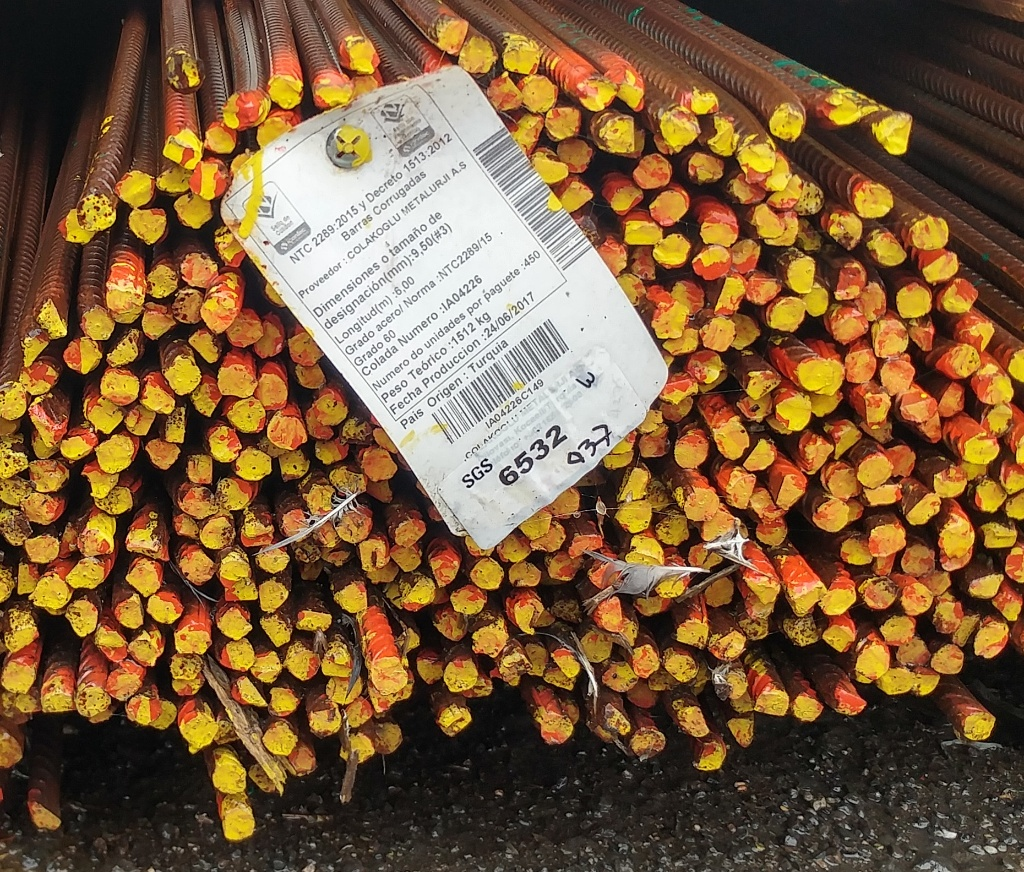dipstick: (224, 91, 272, 131), (26, 400, 73, 440), (824, 210, 868, 252), (825, 261, 867, 303), (738, 569, 784, 607), (716, 468, 758, 509), (64, 336, 108, 375), (735, 139, 779, 177), (32, 300, 77, 337), (125, 526, 171, 562), (113, 171, 157, 208), (337, 36, 383, 71), (3, 609, 43, 649), (981, 397, 1016, 442), (181, 711, 220, 751), (95, 433, 133, 474), (104, 283, 145, 321), (589, 708, 630, 746), (768, 296, 810, 333), (503, 113, 542, 152), (202, 295, 240, 335), (267, 413, 307, 451), (173, 620, 213, 658), (277, 507, 317, 545), (711, 421, 751, 459), (164, 358, 205, 395), (367, 655, 408, 692), (892, 282, 931, 320), (26, 797, 67, 833), (28, 461, 71, 495), (22, 491, 66, 524), (38, 681, 76, 719), (79, 196, 116, 235), (661, 108, 698, 147), (870, 234, 909, 271), (178, 550, 218, 586), (771, 466, 807, 506), (312, 73, 353, 108), (588, 598, 629, 633), (724, 242, 765, 277), (870, 320, 911, 355), (128, 209, 170, 243), (253, 114, 297, 146), (85, 398, 123, 435), (101, 370, 139, 407), (288, 330, 327, 366), (829, 309, 869, 344), (19, 361, 60, 395), (162, 130, 204, 163), (629, 726, 666, 763), (627, 535, 664, 572), (18, 332, 56, 368), (226, 311, 264, 347), (877, 115, 913, 153), (852, 182, 891, 217), (1, 662, 38, 698), (705, 117, 741, 154), (924, 251, 961, 287), (254, 373, 289, 411), (208, 425, 243, 463), (976, 367, 1014, 402), (908, 219, 946, 254), (58, 207, 97, 241), (434, 20, 473, 54), (368, 720, 408, 753), (396, 577, 436, 610), (593, 119, 633, 152), (686, 150, 726, 183), (962, 317, 1002, 350), (183, 484, 219, 520), (211, 759, 247, 795), (340, 728, 376, 764), (177, 194, 214, 229), (215, 228, 252, 263), (190, 329, 227, 364), (187, 380, 224, 415), (65, 601, 102, 636), (304, 482, 342, 516), (682, 489, 720, 523), (687, 348, 721, 386), (146, 590, 185, 623), (761, 215, 801, 247), (179, 255, 220, 286), (221, 637, 257, 672), (335, 578, 371, 613), (265, 76, 307, 106), (709, 628, 745, 663), (853, 643, 889, 678), (653, 304, 689, 339), (703, 211, 739, 246), (943, 344, 979, 379), (60, 429, 97, 463), (78, 309, 115, 343), (614, 467, 651, 501), (814, 496, 848, 533), (939, 279, 976, 313), (284, 647, 322, 680), (545, 549, 583, 582), (942, 520, 975, 558), (703, 514, 742, 546), (125, 632, 160, 667), (590, 554, 625, 589), (826, 620, 861, 655), (869, 520, 904, 555), (220, 363, 254, 399), (428, 554, 464, 588), (983, 519, 1019, 553), (595, 237, 629, 273), (770, 105, 806, 139), (833, 308, 869, 342), (758, 156, 792, 192), (35, 574, 72, 607), (435, 609, 472, 642), (697, 736, 730, 773), (786, 580, 823, 613), (531, 150, 568, 183), (138, 380, 176, 412), (215, 477, 253, 509), (72, 558, 110, 590), (125, 693, 163, 725), (213, 608, 251, 640), (361, 449, 399, 481), (165, 55, 203, 87), (565, 528, 603, 560), (555, 178, 593, 210), (523, 640, 554, 679), (731, 177, 774, 205), (316, 432, 351, 466), (551, 595, 586, 629), (789, 689, 824, 723), (775, 394, 809, 429), (852, 282, 887, 316), (542, 109, 583, 138), (77, 687, 113, 720), (306, 702, 342, 735), (635, 157, 671, 190), (815, 100, 859, 127), (779, 258, 815, 291), (797, 281, 833, 314), (190, 164, 227, 196), (992, 584, 1024, 621), (899, 545, 936, 577), (697, 318, 734, 350), (579, 635, 617, 666), (651, 192, 689, 223), (1, 435, 30, 475), (472, 623, 506, 657), (674, 436, 708, 470), (254, 323, 287, 358), (356, 538, 391, 571), (832, 685, 865, 720), (975, 622, 1008, 657), (857, 454, 892, 487), (236, 448, 272, 480), (442, 660, 478, 692), (616, 501, 652, 533), (902, 583, 938, 615), (904, 489, 936, 525), (878, 362, 914, 394), (140, 307, 177, 338), (265, 685, 302, 716), (335, 510, 372, 541), (823, 467, 860, 498), (961, 435, 999, 465), (798, 439, 836, 469), (676, 706, 709, 740), (827, 422, 860, 456), (498, 533, 533, 565), (729, 316, 764, 348), (714, 280, 749, 312), (292, 360, 328, 391), (128, 561, 164, 592), (264, 724, 300, 755), (505, 559, 541, 590), (862, 578, 898, 609), (389, 542, 426, 572), (602, 180, 640, 209), (82, 466, 121, 494), (452, 585, 486, 617), (745, 439, 779, 471), (147, 439, 182, 470), (108, 334, 143, 365), (108, 667, 143, 698), (327, 674, 362, 705), (332, 466, 367, 497), (217, 556, 253, 586), (256, 546, 292, 576), (783, 615, 819, 645), (159, 406, 191, 439), (116, 597, 148, 630), (322, 648, 355, 680), (512, 599, 545, 631), (147, 266, 181, 297), (261, 611, 292, 645), (250, 651, 284, 682), (558, 142, 592, 173), (743, 274, 777, 305), (438, 705, 473, 735), (695, 248, 731, 277), (170, 671, 207, 699), (202, 122, 239, 150), (500, 652, 532, 684), (935, 465, 967, 497), (81, 526, 112, 559), (173, 291, 206, 322), (315, 393, 348, 424), (342, 417, 375, 448), (280, 448, 313, 479), (185, 454, 218, 485), (232, 677, 265, 708), (614, 272, 645, 305), (658, 234, 689, 267), (842, 350, 875, 381), (26, 533, 60, 563), (251, 764, 285, 794), (470, 559, 504, 589), (961, 711, 995, 741), (841, 536, 875, 566), (813, 362, 843, 396), (168, 653, 207, 679), (658, 394, 697, 420), (57, 524, 85, 560), (632, 642, 657, 682), (341, 698, 373, 729), (673, 283, 704, 315), (540, 713, 573, 743), (1, 507, 30, 541), (96, 626, 130, 655), (391, 517, 427, 544), (665, 329, 701, 356), (344, 75, 386, 98), (758, 686, 789, 717), (933, 646, 964, 677), (172, 514, 204, 544), (151, 699, 181, 731), (299, 605, 331, 635), (313, 518, 345, 548), (536, 522, 566, 554), (792, 221, 824, 251), (256, 582, 289, 611), (822, 587, 856, 615), (798, 357, 826, 391), (95, 489, 133, 514), (749, 208, 784, 235), (156, 169, 192, 195), (1, 476, 31, 507), (415, 653, 446, 683), (611, 619, 642, 649), (664, 653, 695, 683), (716, 670, 747, 700), (125, 407, 157, 436), (1, 726, 23, 768), (676, 617, 709, 645), (660, 379, 700, 402), (518, 512, 552, 539), (29, 431, 64, 457), (743, 597, 778, 623), (931, 600, 961, 630), (626, 219, 662, 244), (859, 392, 889, 422), (629, 677, 658, 708), (658, 514, 689, 543), (975, 482, 1006, 511), (770, 183, 801, 212), (883, 617, 915, 645), (942, 384, 970, 416), (688, 545, 725, 569), (685, 662, 711, 696), (745, 372, 779, 398), (1, 383, 26, 418), (969, 572, 999, 601), (886, 446, 915, 476), (305, 411, 336, 439), (796, 183, 824, 214), (882, 669, 914, 696), (687, 91, 720, 117), (634, 591, 671, 614), (368, 560, 402, 585), (464, 533, 494, 561), (548, 489, 578, 517), (726, 717, 756, 745), (260, 433, 291, 460), (608, 664, 639, 691), (243, 509, 275, 535), (704, 577, 736, 603), (11, 692, 44, 717), (18, 565, 46, 594), (648, 482, 674, 513), (917, 416, 948, 442), (739, 617, 771, 642), (88, 507, 116, 535), (548, 664, 575, 693), (631, 245, 657, 275), (935, 552, 976, 571), (217, 270, 248, 295), (958, 455, 990, 479), (908, 321, 936, 348), (658, 569, 687, 595), (642, 433, 673, 457), (225, 582, 257, 605), (369, 685, 397, 711), (911, 671, 939, 697), (397, 628, 426, 653), (636, 408, 665, 433), (861, 486, 899, 505), (292, 543, 322, 567), (901, 641, 931, 665), (742, 398, 773, 421), (871, 552, 898, 578), (902, 393, 928, 420), (373, 429, 401, 454), (366, 477, 394, 502), (552, 650, 580, 675), (863, 423, 894, 445), (215, 718, 242, 743), (598, 449, 633, 468), (648, 671, 679, 692), (999, 462, 1024, 488), (574, 214, 598, 241), (322, 545, 354, 565), (1, 687, 22, 717), (265, 282, 289, 308), (490, 95, 524, 113), (1007, 352, 1024, 388), (523, 95, 555, 114), (579, 95, 614, 112), (240, 530, 273, 547), (732, 690, 755, 714), (843, 500, 867, 523), (610, 433, 637, 453), (955, 618, 979, 640), (1005, 492, 1024, 517), (1, 568, 15, 601), (397, 679, 419, 700), (301, 562, 324, 580), (564, 703, 583, 723), (1, 418, 19, 435)
